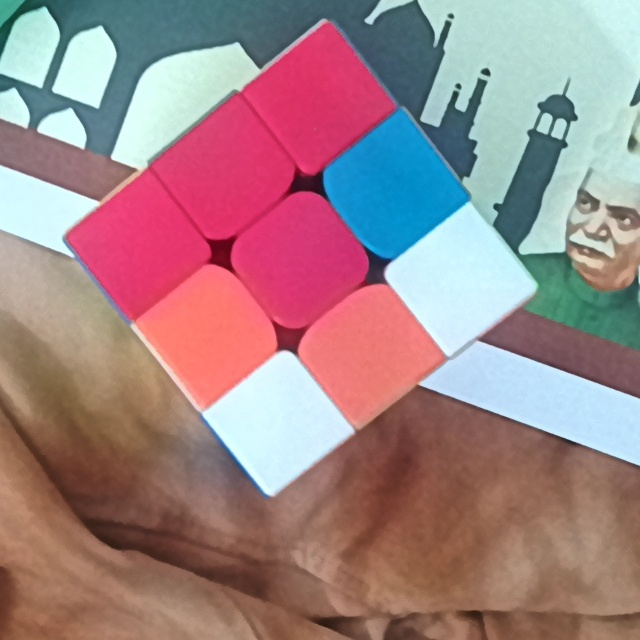tile: (166, 294, 248, 374), (274, 61, 361, 135), (98, 208, 180, 284), (354, 148, 436, 224), (330, 311, 405, 391), (237, 386, 320, 458), (185, 132, 265, 206), (260, 219, 341, 292), (422, 245, 496, 322)
